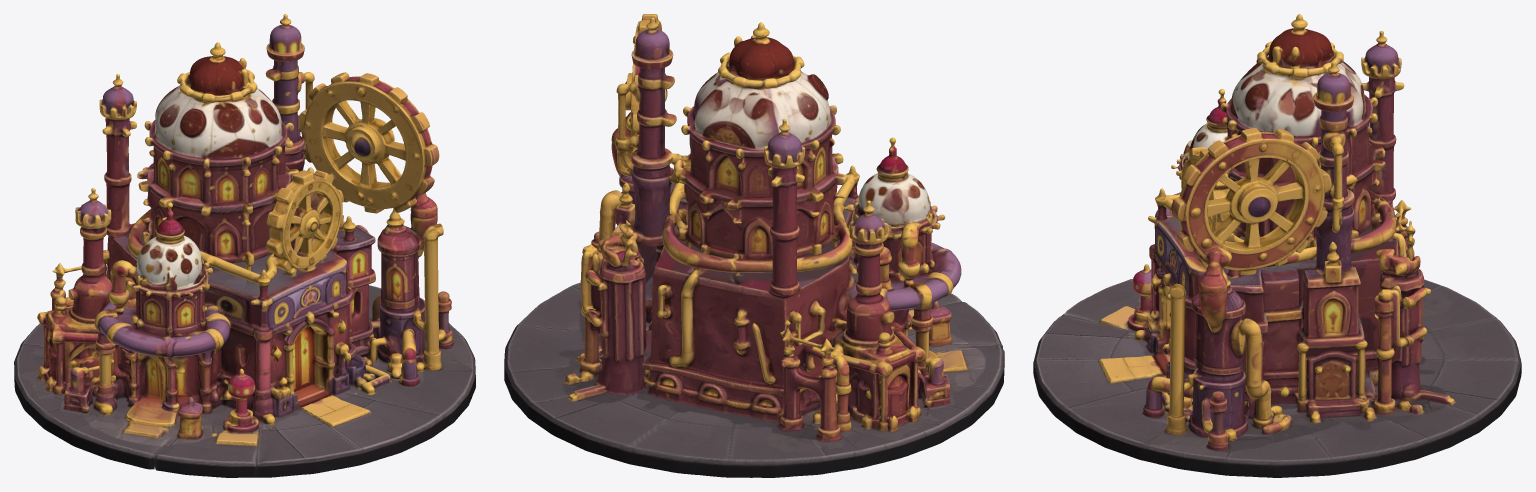
Rendered from Meshy_AI_Clockwork_Ember_Palac_1024091331_texture.fbx.
The picture shows the model from 3 angles, left to right: view 1: azimuth 30°, elevation 25°; view 2: azimuth 150°, elevation 25°; view 3: azimuth 270°, elevation 25°; orthographic projection. The views are drawn at different scales.
Visible parts, largest first — view 1: Mesh_0; view 2: Mesh_0; view 3: Mesh_0.
Part boxes in pixels (x1=…): Mesh_0: x1=14, y1=14, x2=475, y2=477; Mesh_0: x1=504, y1=14, x2=1004, y2=477; Mesh_0: x1=1033, y1=14, x2=1521, y2=477.
Bounding box in the file's own units: 190 × 151 × 190.
1 material, 1 textured.
